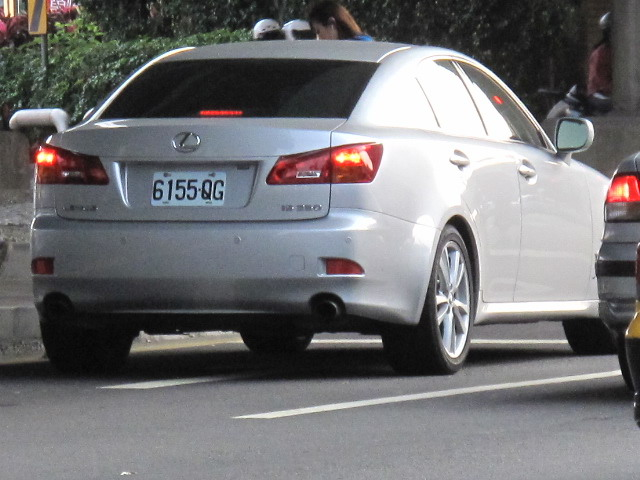plate: (150, 170, 228, 209)
